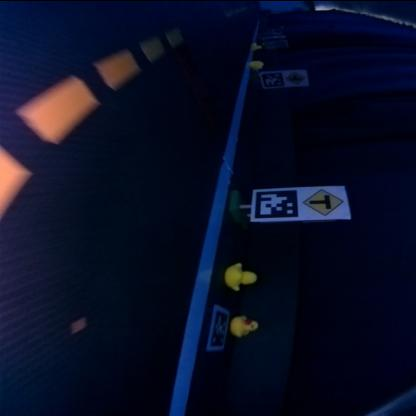Duckie: (226, 262, 258, 290), (232, 314, 258, 336), (250, 59, 264, 68), (252, 41, 262, 48)
Intersection sign: (301, 187, 346, 215), (287, 70, 306, 84)
QR code: (256, 188, 300, 216), (209, 305, 229, 348), (263, 70, 285, 86)
